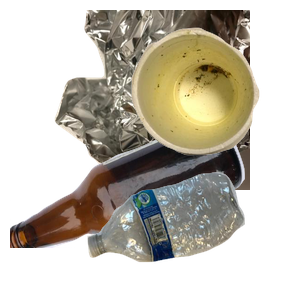glass: (10, 120, 247, 300)
metal: (52, 10, 292, 190)
plastic: (85, 170, 300, 300)
trash: (129, 25, 300, 173)
